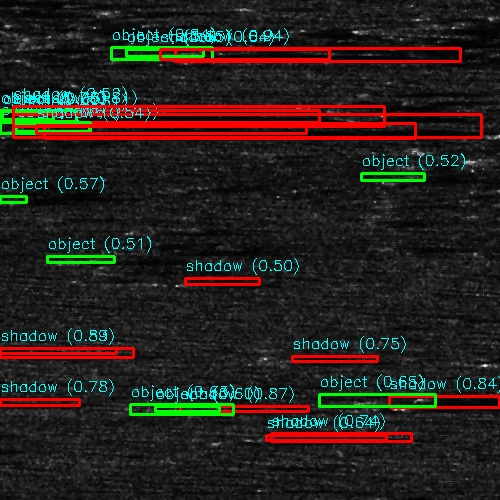rock: (0, 124, 118, 141), (30, 111, 93, 120), (139, 49, 212, 56), (73, 255, 126, 260), (377, 25, 418, 30), (160, 227, 191, 230), (0, 353, 6, 356)
shadow: (30, 124, 336, 141), (62, 111, 297, 120), (176, 49, 470, 56), (0, 341, 135, 356), (0, 353, 171, 356), (398, 25, 500, 30), (100, 255, 178, 260), (0, 0, 123, 3), (176, 227, 216, 230)
